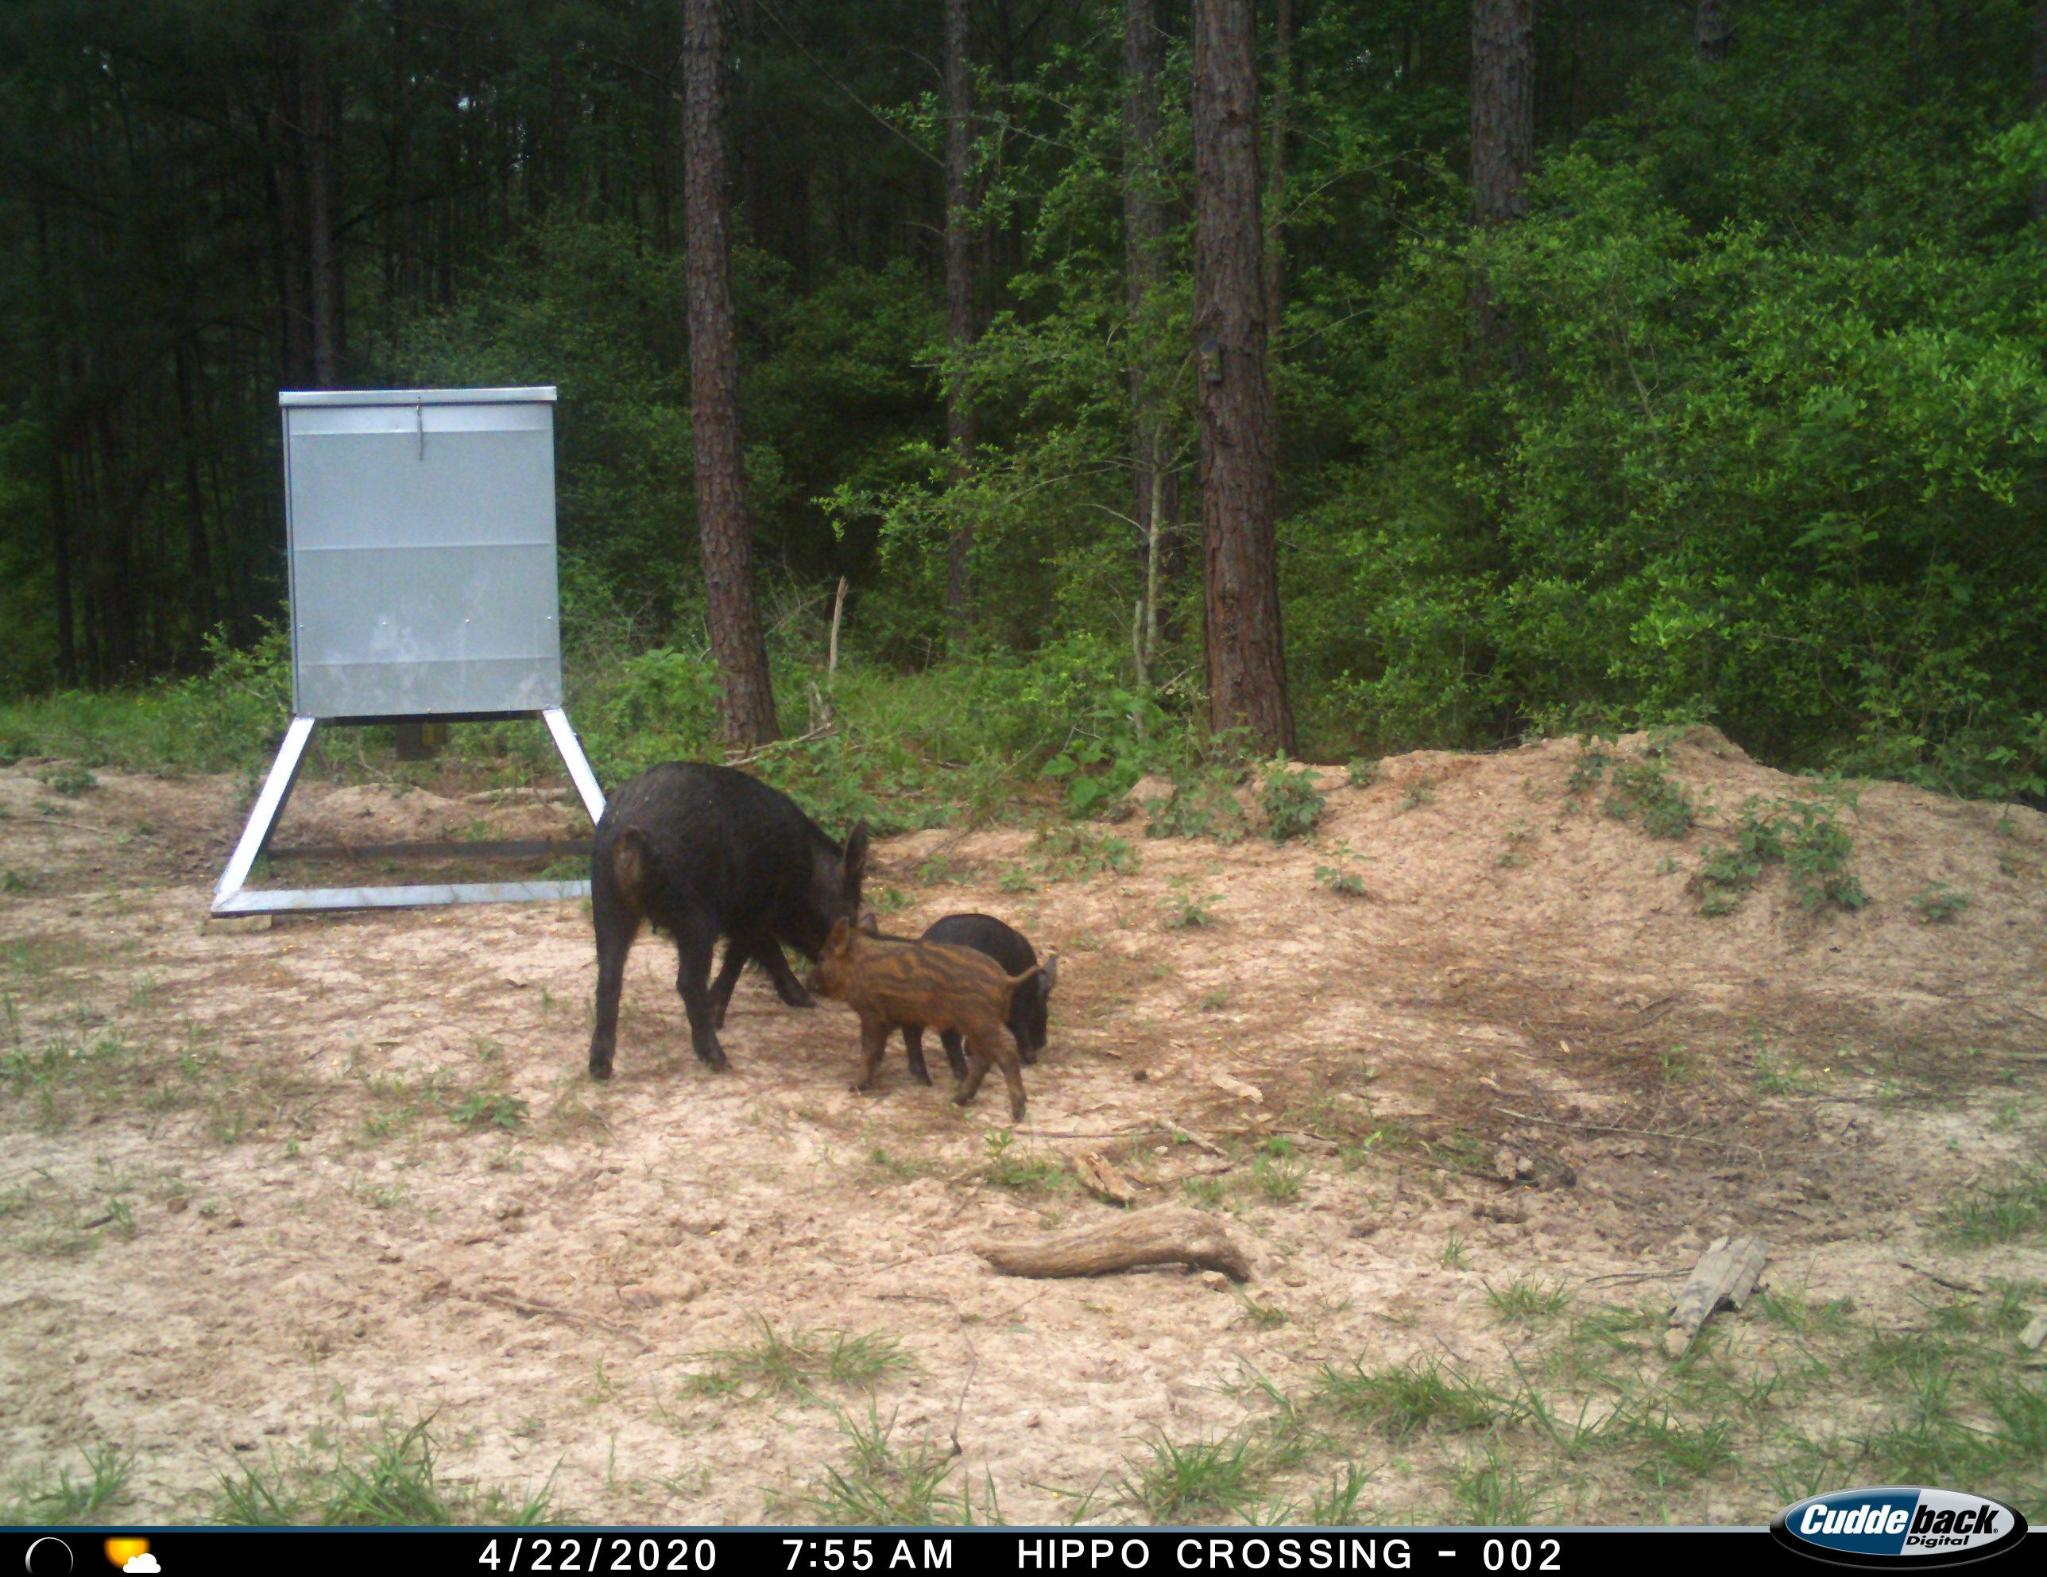Hog: (560, 752, 878, 1078), (807, 904, 1038, 1112)
